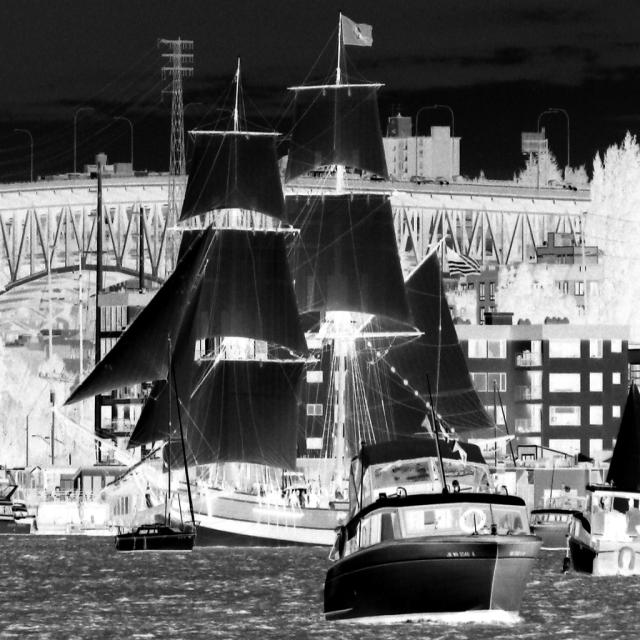Boat: (62, 55, 332, 553), (285, 0, 422, 461), (315, 411, 572, 618)
